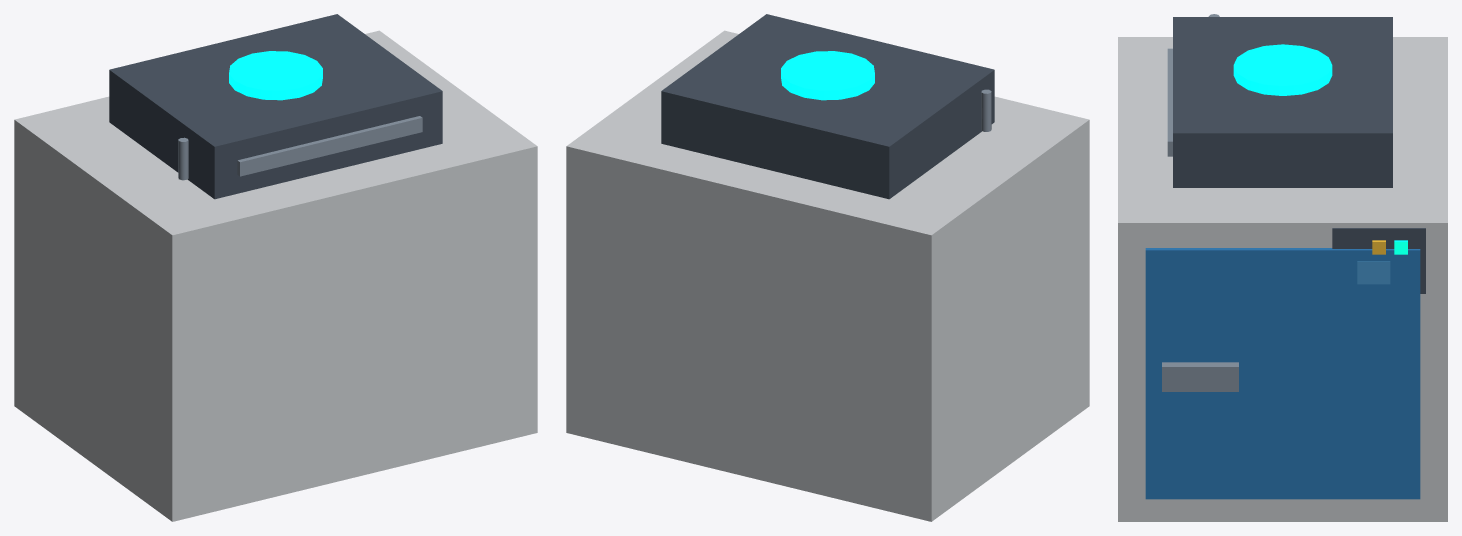
The model's file is cold_box.glb.
3 views of the same model, side by side, from view 1: azimuth 30°, elevation 25°; view 2: azimuth 150°, elevation 25°; view 3: azimuth 270°, elevation 25° (orthographic). The views are drawn at different scales.
Visible parts, largest first — view 1: Body, CoolingUnit_Housing, CoolingUnit_Fan, CoolingUnit_Grille; view 2: Body, CoolingUnit_Housing, CoolingUnit_Fan; view 3: Door, Body, CoolingUnit_Housing, CoolingUnit_Fan, Door_Handle, ControlPanel_Face, ControlPanel_Screen, CoolingUnit_Grille.
Part boxes in pixels (<box>): Body: <box>14,30,537,521</box>; CoolingUnit_Housing: <box>109,14,442,199</box>; CoolingUnit_Fan: <box>229,51,322,100</box>; CoolingUnit_Grille: <box>237,116,422,176</box>; Body: <box>566,30,1089,521</box>; CoolingUnit_Housing: <box>661,14,994,199</box>; CoolingUnit_Fan: <box>781,51,874,100</box>; Door: <box>1145,248,1420,499</box>; Body: <box>1118,37,1447,521</box>; CoolingUnit_Housing: <box>1173,17,1392,187</box>; CoolingUnit_Fan: <box>1233,44,1332,95</box>; Door_Handle: <box>1162,362,1238,391</box>; ControlPanel_Face: <box>1332,228,1425,293</box>; ControlPanel_Screen: <box>1357,261,1389,283</box>; CoolingUnit_Grille: <box>1167,48,1172,156</box>.
Bounding box in the file's own units: 1.66 × 1.46 × 1.2.
